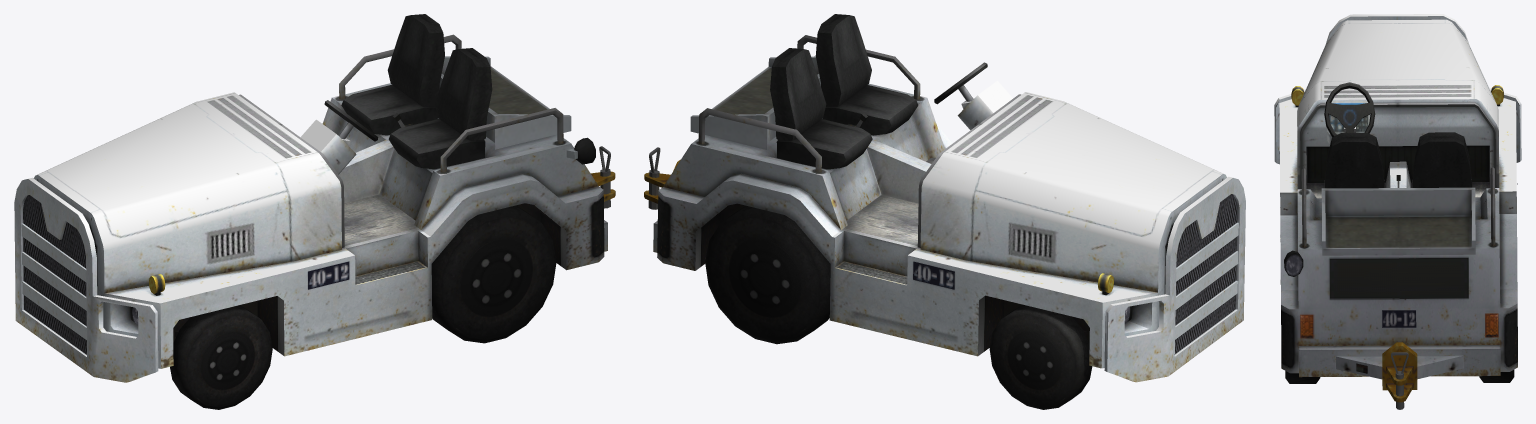
The model's file is Hangar_Aircraft_Vehicle01.FBX.
3 views of the same model, side by side, from view 1: azimuth 30°, elevation 25°; view 2: azimuth 150°, elevation 25°; view 3: azimuth 270°, elevation 25° (orthographic). The views are drawn at different scales.
Parts seen in each view (by area): view 1: Hangar_Aircraft_Vehicle01; view 2: Hangar_Aircraft_Vehicle01; view 3: Hangar_Aircraft_Vehicle01.
Boxes of the visible parts, left/top/right/bottom form: Hangar_Aircraft_Vehicle01: left=14, top=14, right=615, bottom=409; Hangar_Aircraft_Vehicle01: left=644, top=14, right=1245, bottom=409; Hangar_Aircraft_Vehicle01: left=1274, top=14, right=1521, bottom=409.
Bounding box in the file's own units: 396 × 175 × 159.
